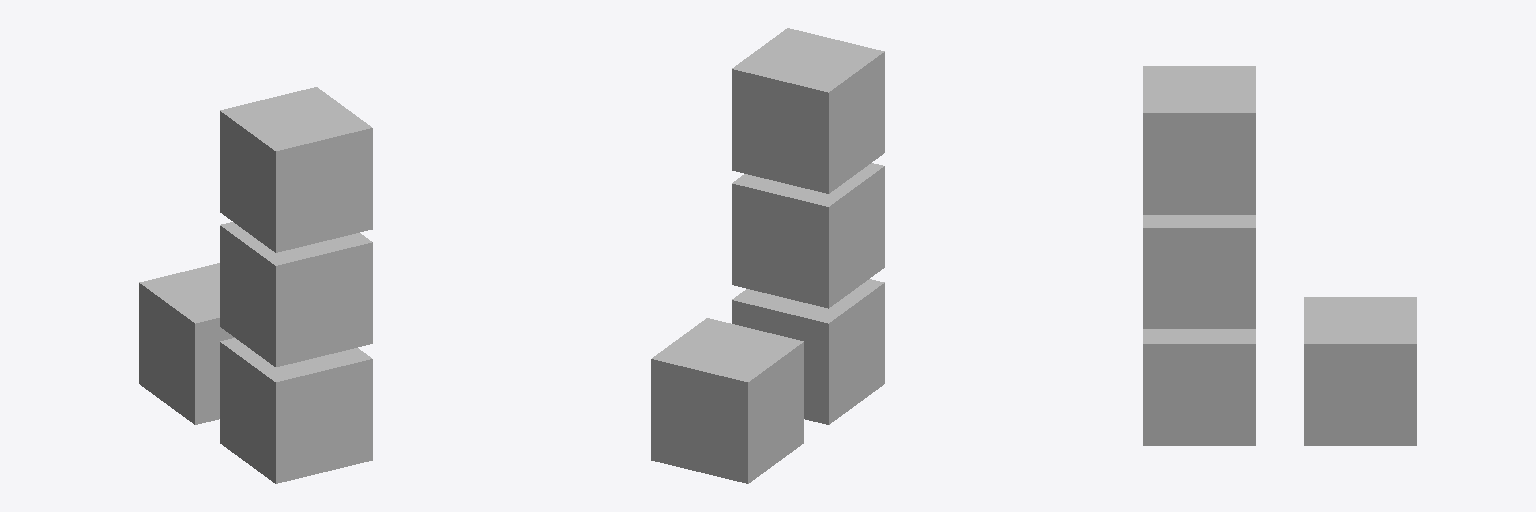
The model's file is explicit parents.obj.
3 views of the same model, side by side, from view 1: azimuth 30°, elevation 25°; view 2: azimuth 150°, elevation 25°; view 3: azimuth 270°, elevation 25° (orthographic).
Parts seen in each view (by area): view 1: TIC_TICM, FIC_FICM, SIC_SICM, S_SM; view 2: TIC_TICM, S_SM, SIC_SICM, FIC_FICM; view 3: TIC_TICM, S_SM, FIC_FICM, SIC_SICM.
Boxes of the visible parts, x1,y1,x2,y2 form: TIC_TICM: [220, 87, 372, 252]; FIC_FICM: [220, 338, 372, 483]; SIC_SICM: [220, 222, 372, 366]; S_SM: [139, 263, 234, 424]; TIC_TICM: [732, 28, 884, 193]; S_SM: [651, 318, 803, 483]; SIC_SICM: [732, 163, 884, 308]; FIC_FICM: [732, 279, 884, 424]; TIC_TICM: [1143, 66, 1255, 214]; S_SM: [1304, 297, 1416, 445]; FIC_FICM: [1143, 329, 1255, 445]; SIC_SICM: [1143, 215, 1255, 328].
Size of the model in its own units: 2 by 6.55 by 4.87.